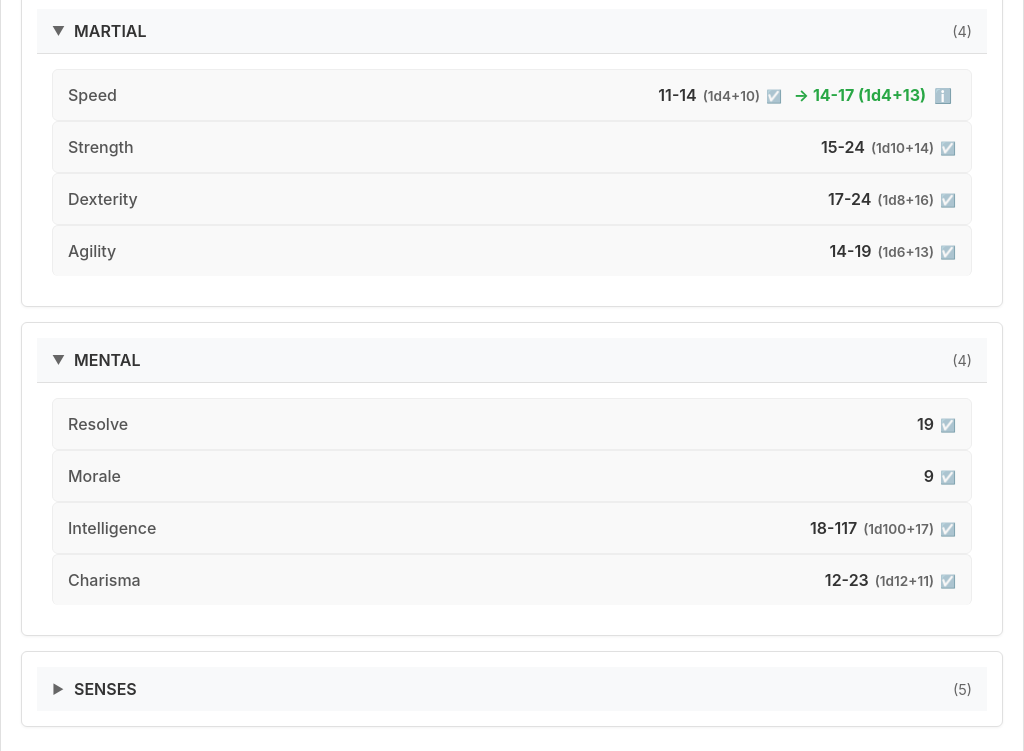
Test case: CharacterAttributesBackend › Ready Grouped Attributes Fallback › should fix backend bug where specific attributes show 0 in ready mode
The width and height of the screenshot is (1024, 751).
(page scrolled)
Click the text "SENSES" at (105, 689), box [74, 679, 137, 699]
(page scrolled)
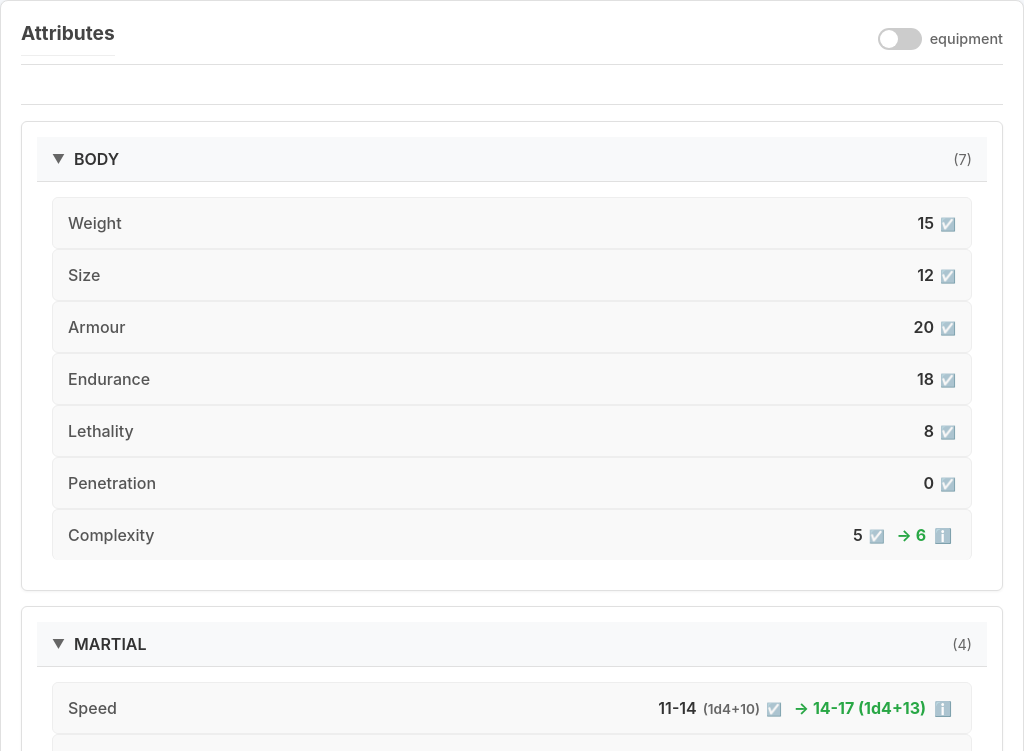
Click the checkbox at (940, 38), box [878, 28, 1003, 50]
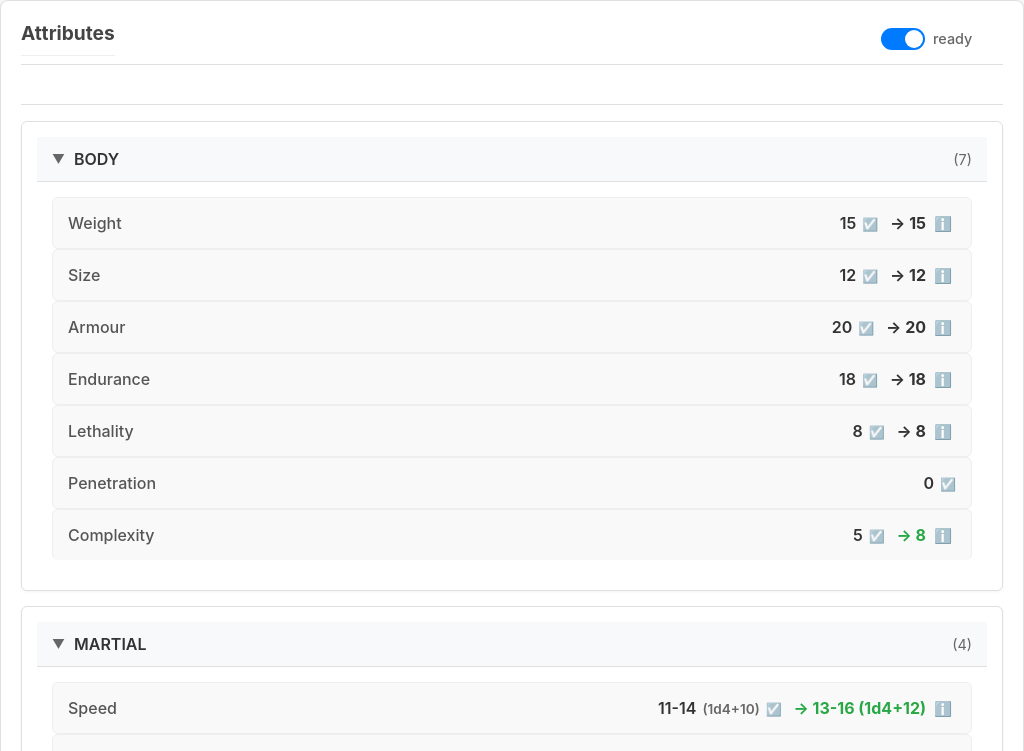
Expected: the text "Complexity" is shown, [68, 525, 154, 545]
Expected: the text "ready" is shown, [933, 30, 972, 47]
Expected: the text "→ 12" is shown, [886, 265, 956, 285]
